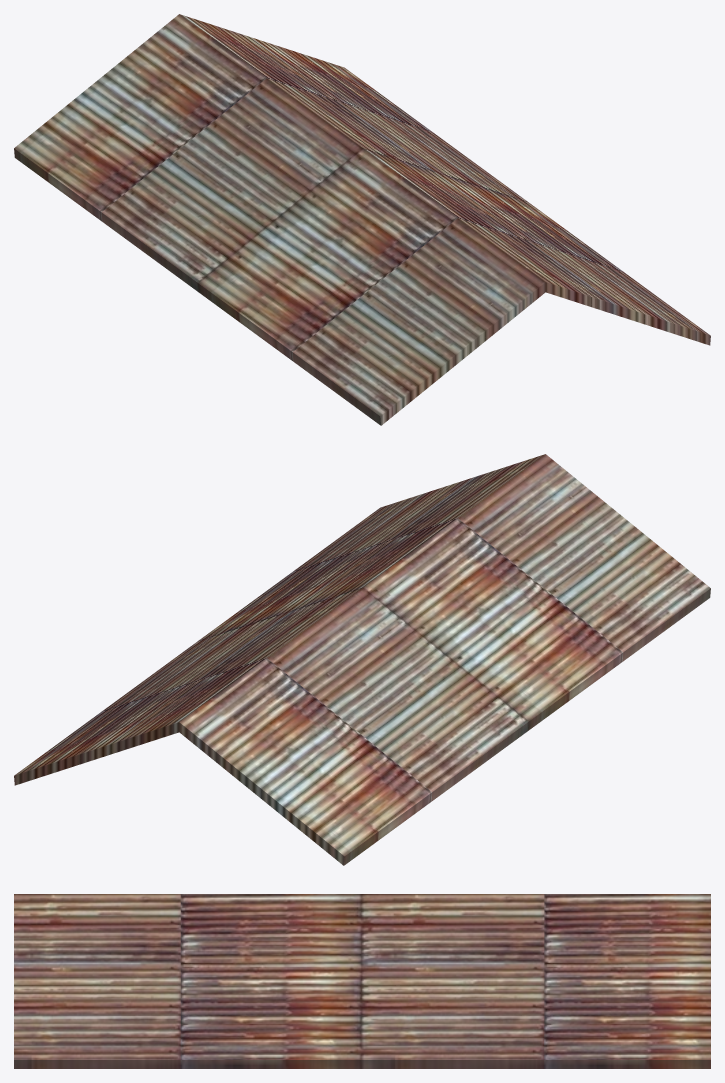
File: barrackroof.FBX
The picture shows the model from 3 angles, top to bottom: view 1: azimuth 30°, elevation 25°; view 2: azimuth 150°, elevation 25°; view 3: azimuth 270°, elevation 25°; orthographic projection. The views are drawn at different scales.
Parts seen in each view (by area): view 1: Barracks01-Roof; view 2: Barracks01-Roof; view 3: Barracks01-Roof.
Part boxes in pixels (x1,y1,x2,y2): Barracks01-Roof: (14, 14, 710, 425); Barracks01-Roof: (14, 454, 710, 865); Barracks01-Roof: (14, 894, 710, 1068).
Size of the model in its own units: 277 by 82.94 by 531.
